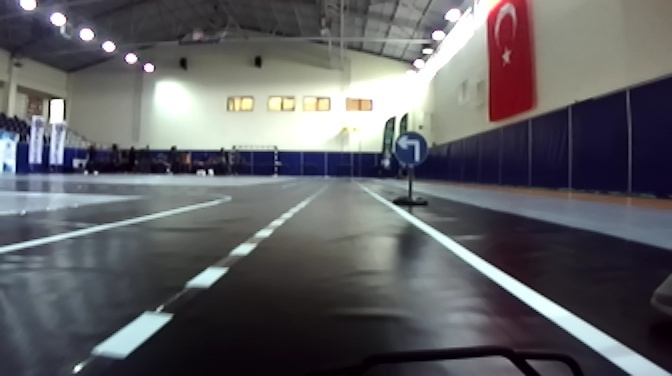sola_donus: (389, 129, 431, 162)
